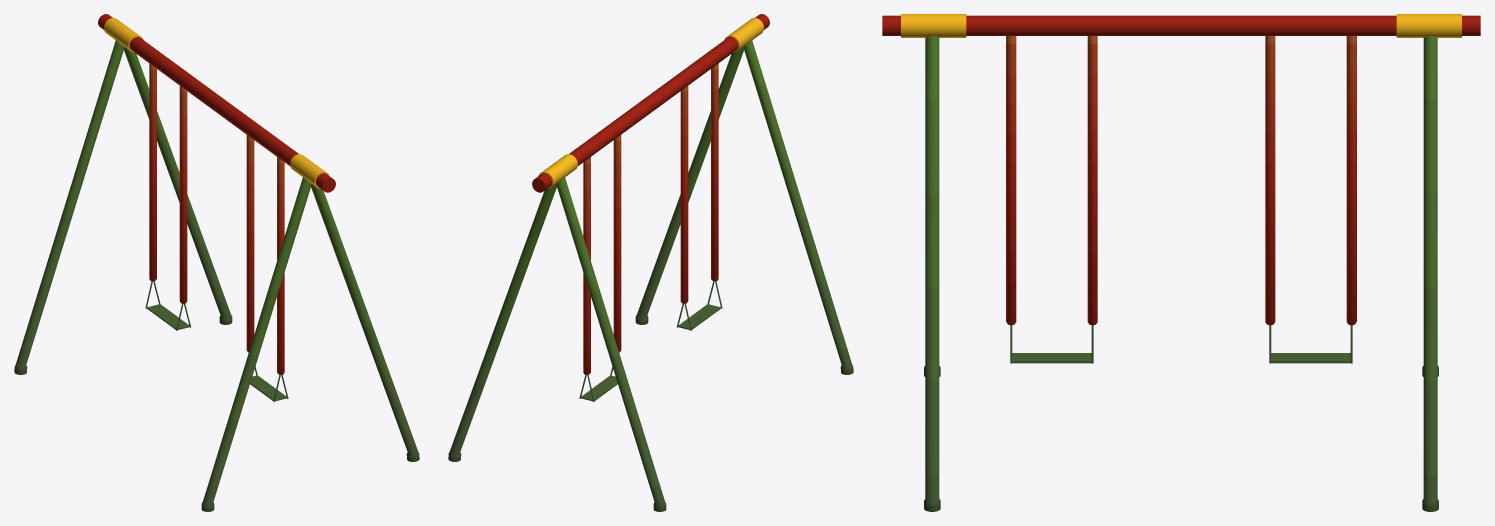
The model's file is swing.fbx.
The picture shows the model from 3 angles, left to right: view 1: azimuth 30°, elevation 25°; view 2: azimuth 150°, elevation 25°; view 3: azimuth 270°, elevation 25°; orthographic projection. The views are drawn at different scales.
Visible parts, largest first — view 1: swing; view 2: swing; view 3: swing.
Boxes of the visible parts, <box> form: swing: <box>14,14,419,511</box>; swing: <box>448,14,853,511</box>; swing: <box>882,14,1480,511</box>.
Bounding box in the file's own units: 195 × 276 × 350.
